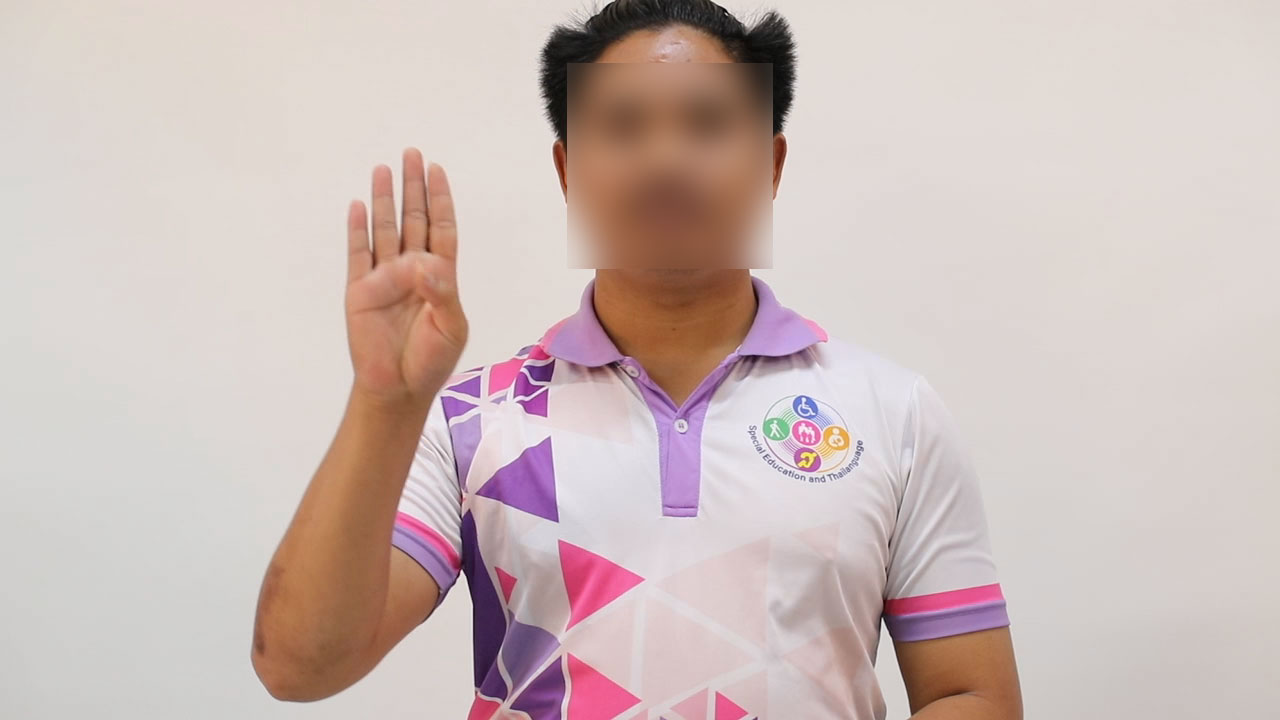bor: (324, 133, 484, 431)
